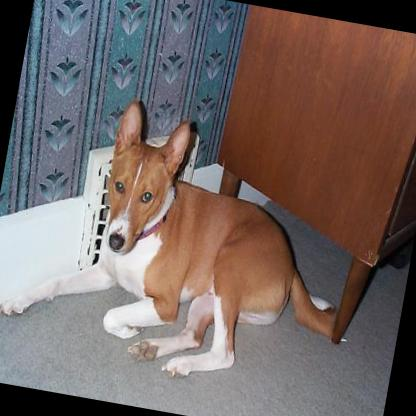basenji: (0, 79, 375, 407)
